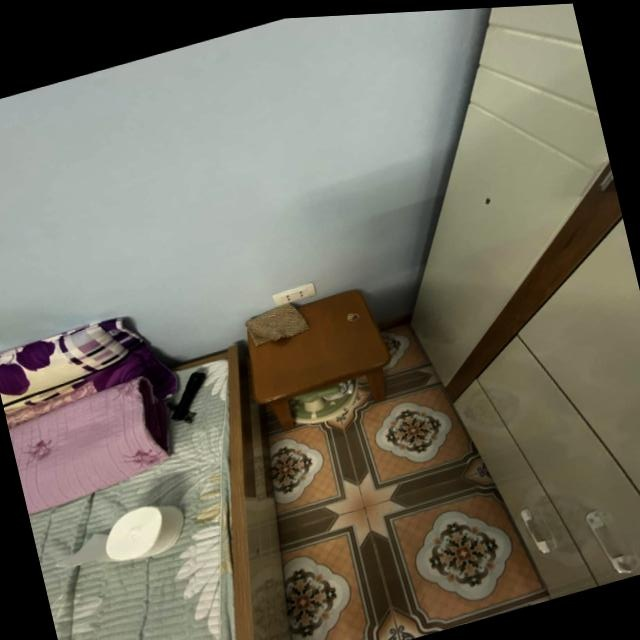outlet: (273, 282, 318, 307)
